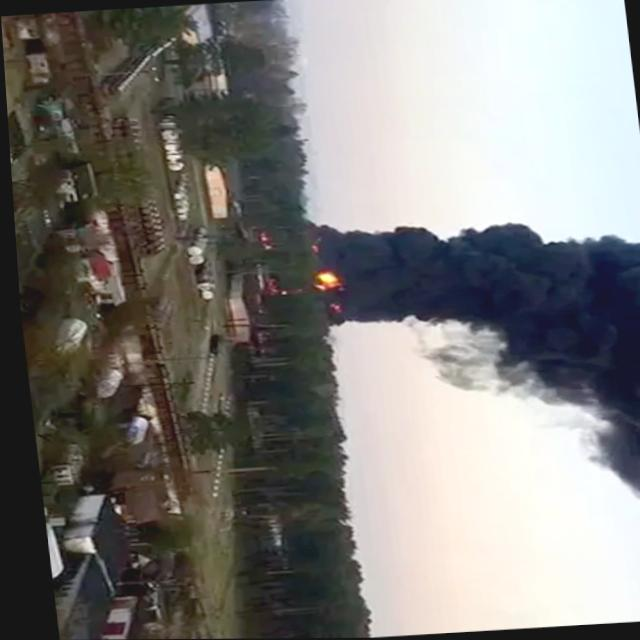Smoke: (307, 206, 640, 417)
